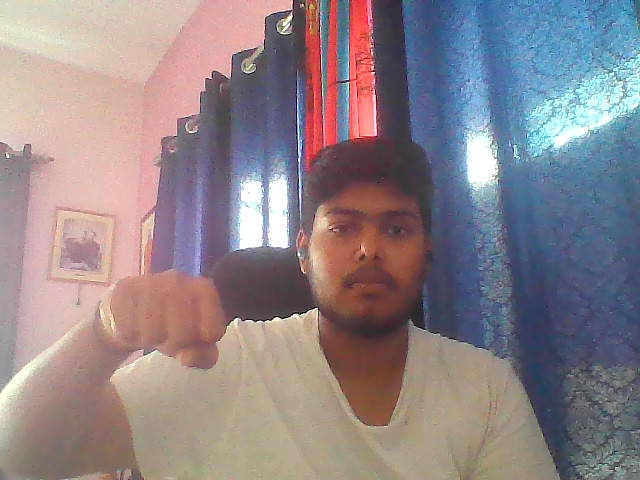Yes: (84, 269, 247, 382)
